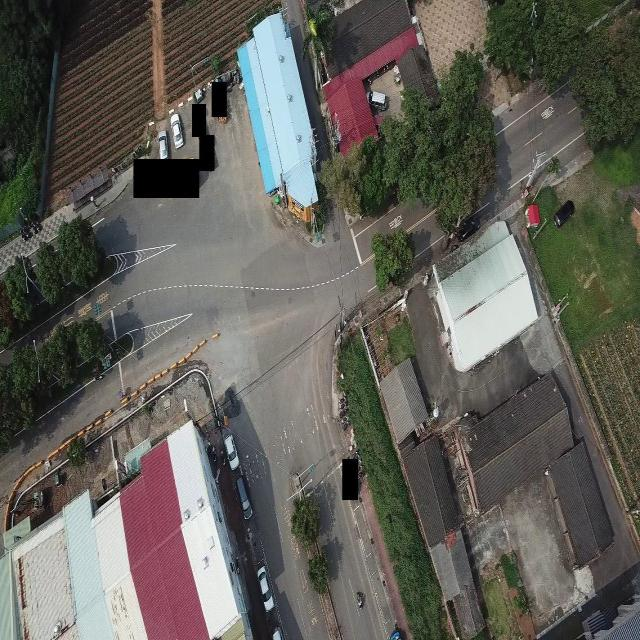bike: (356, 590, 364, 610)
car: (233, 476, 256, 521), (222, 429, 243, 468), (554, 192, 573, 235), (257, 570, 275, 612), (169, 112, 185, 157), (365, 86, 391, 110), (157, 130, 169, 158)
